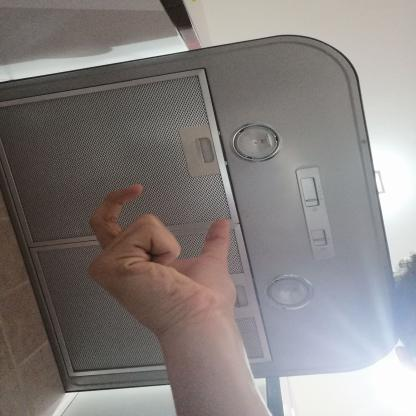NOON: (74, 178, 250, 347)
